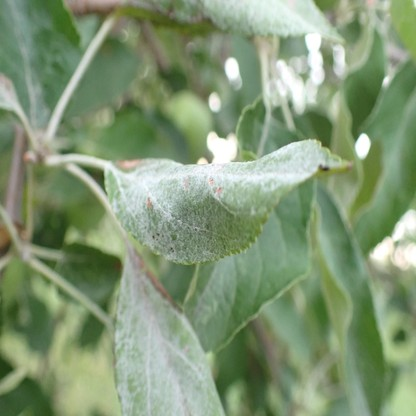powder: (104, 138, 351, 265), (115, 244, 225, 416), (152, 0, 346, 43)
